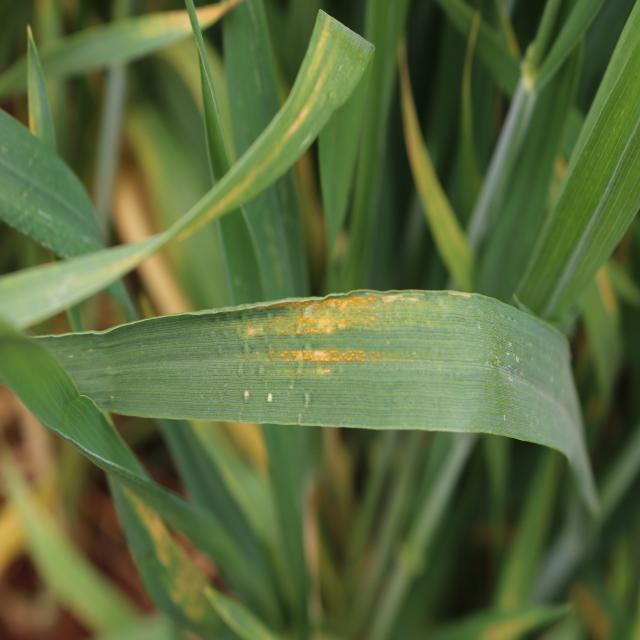Stripe Rust: (232, 296, 410, 338), (260, 350, 377, 374)
